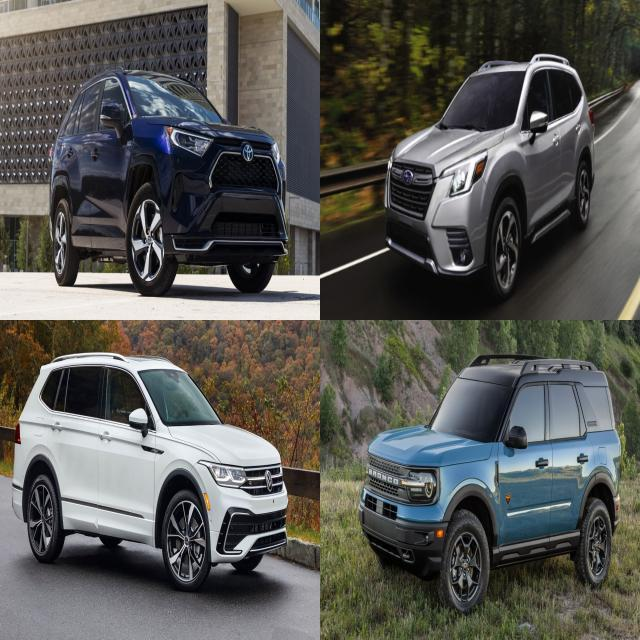sedan: (358, 353, 621, 615), (11, 352, 289, 594), (48, 66, 288, 296), (384, 51, 596, 302)
